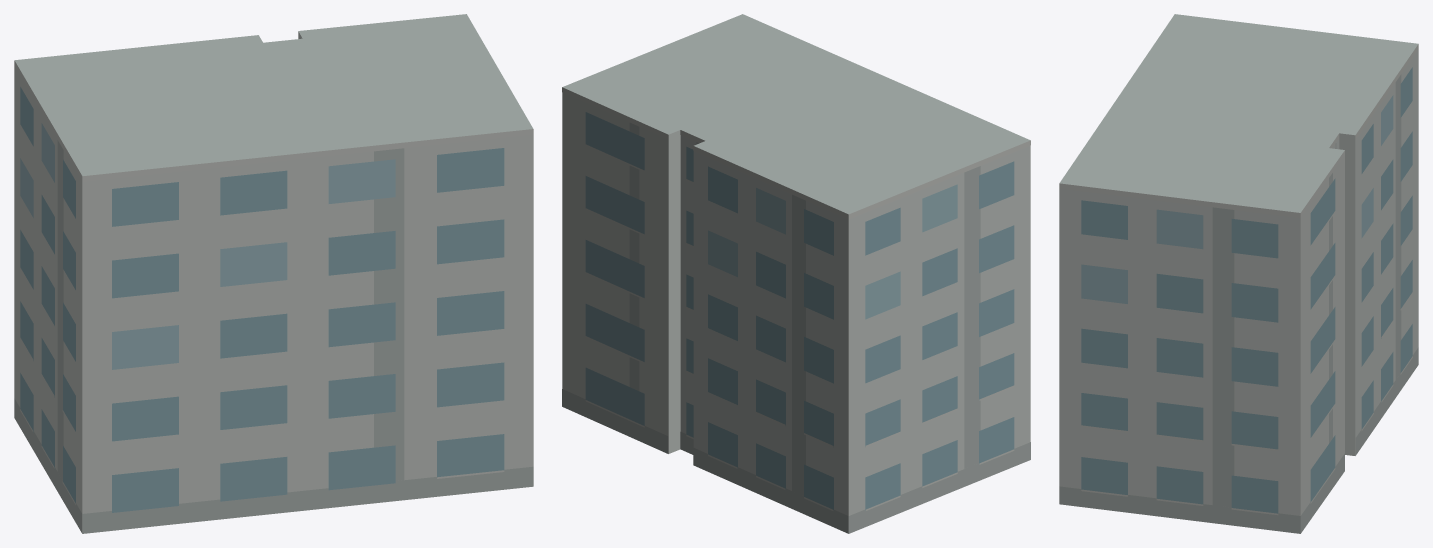
The model's file is survey-upis-32786234.glb.
3 views of the same model, side by side, from view 1: azimuth 30°, elevation 25°; view 2: azimuth 150°, elevation 25°; view 3: azimuth 270°, elevation 25° (orthographic). The views are drawn at different scales.
Parts seen in each view (by area): view 1: survey-upis-32786234.tmp; view 2: survey-upis-32786234.tmp; view 3: survey-upis-32786234.tmp.
Boxes of the visible parts, x1,y1,x2,y2 form: survey-upis-32786234.tmp: [14, 14, 533, 533]; survey-upis-32786234.tmp: [562, 14, 1030, 533]; survey-upis-32786234.tmp: [1059, 14, 1418, 533].
Size of the model in its own units: 20.29 by 15.25 by 15.49.
